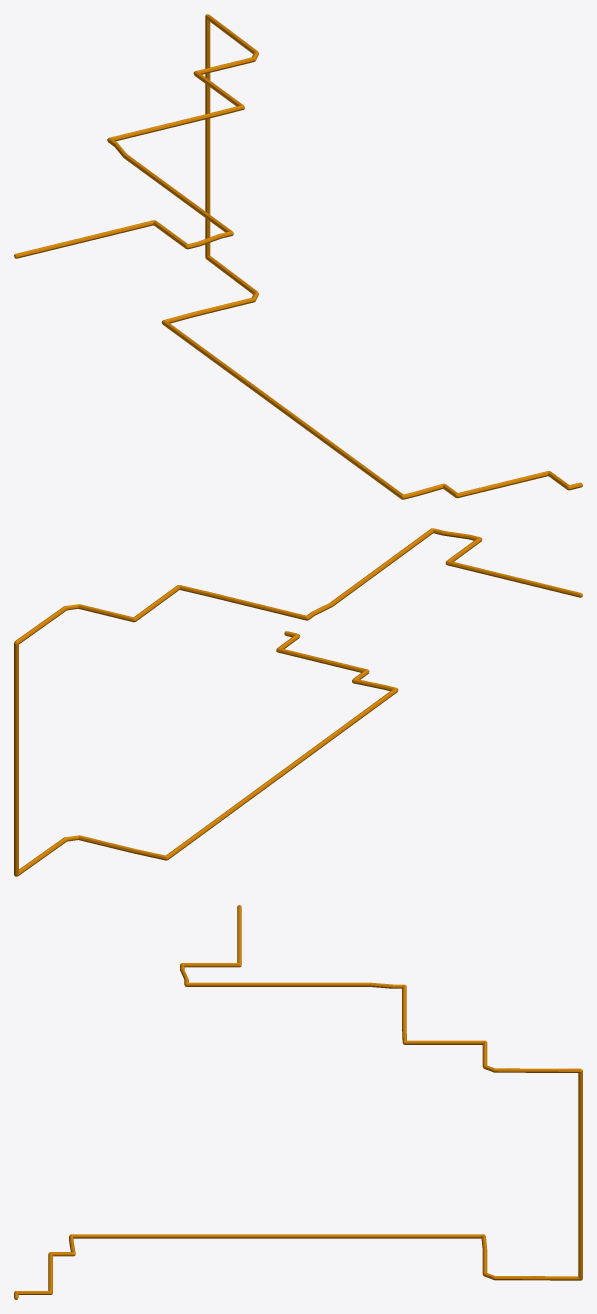
3 renders of one model, top to bottom at view 1: azimuth 30°, elevation 25°; view 2: azimuth 150°, elevation 25°; view 3: azimuth 270°, elevation 25°, orthographic. The views are drawn at different scales.
Size of the model in its own units: 1912 by 1020 by 2485.
